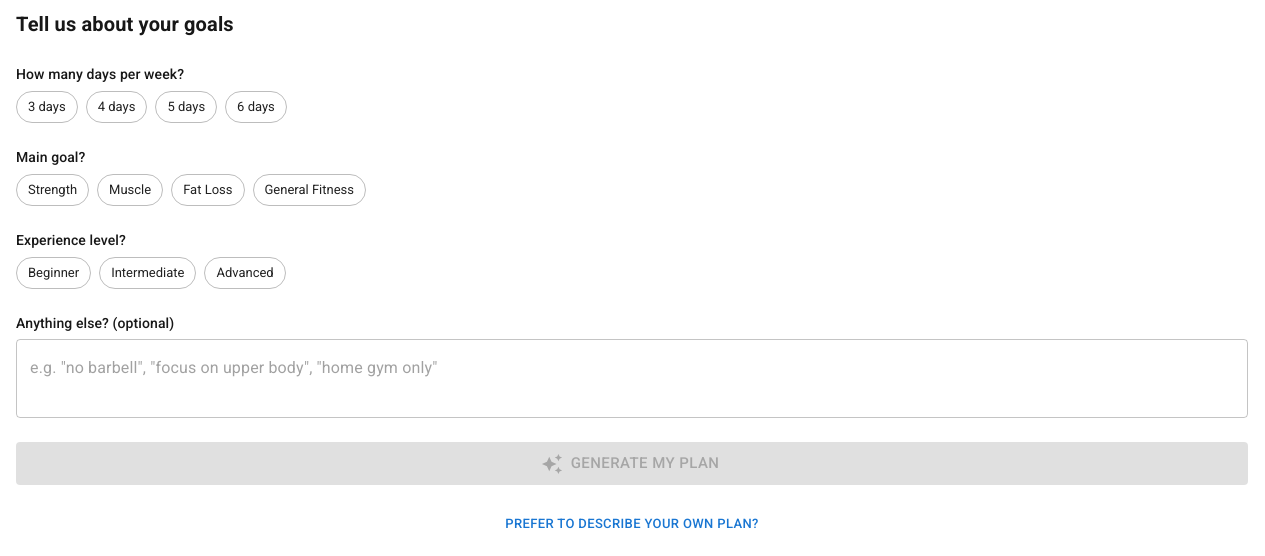
Test: AiFormScreen — freeform mode › shows freeform textarea after clicking the toggle link
Click the button "Prefer to describe your own plan?": x=632, y=524 x1=16 y1=509 x2=1248 y2=540
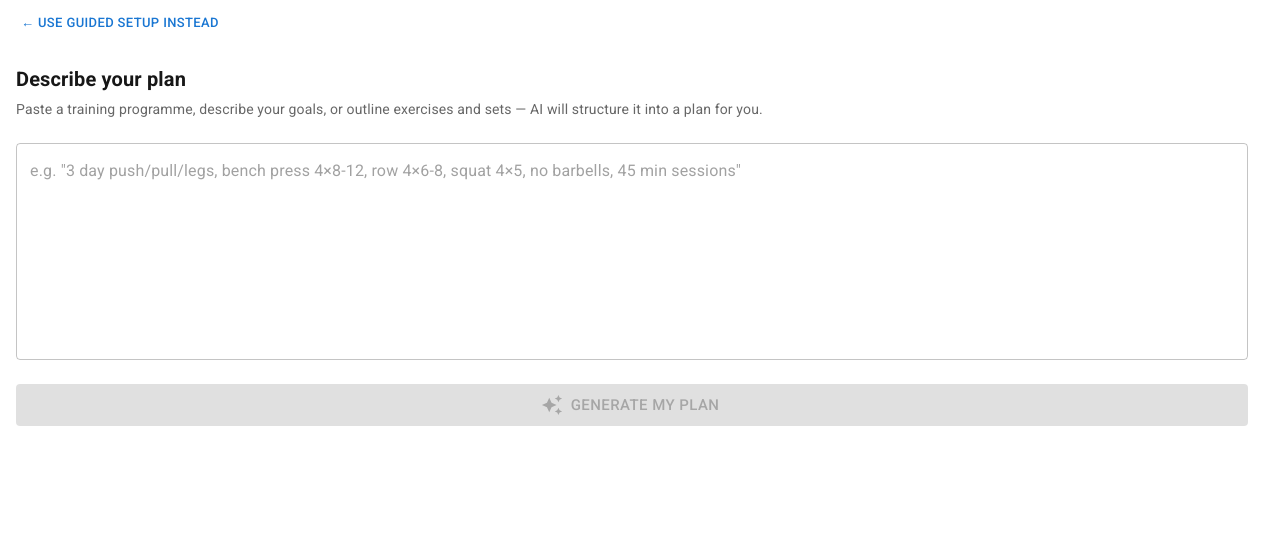
Expected: the text box named "plan description" is shown, x1=30 y1=159 x2=1234 y2=343
